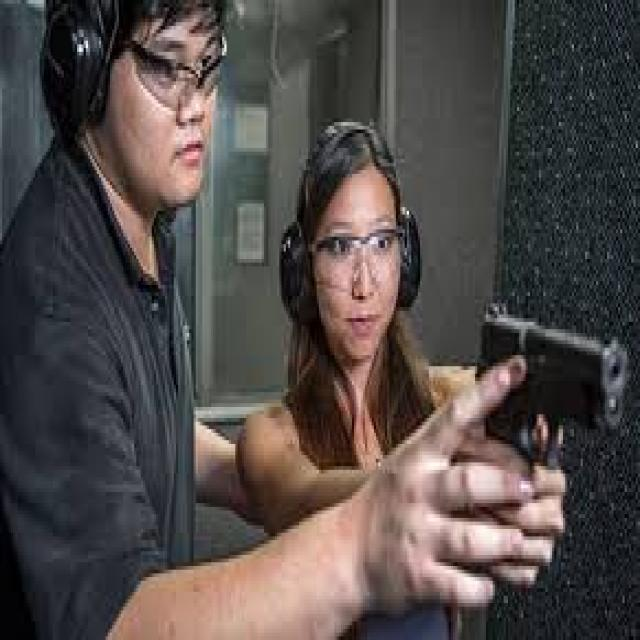weapons: (460, 278, 632, 545)
